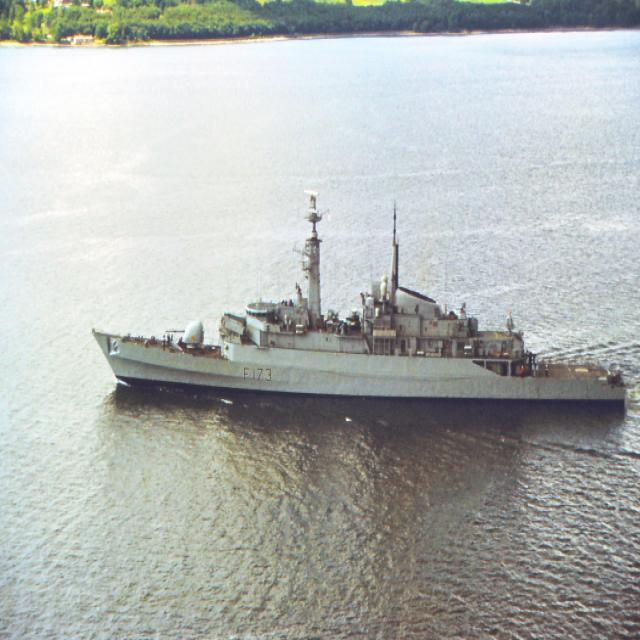Fragata: (88, 173, 632, 417)
